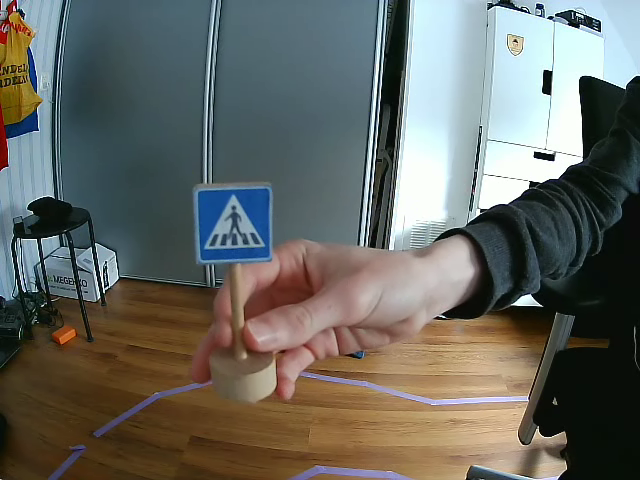zebrapad: (193, 185, 278, 264)
